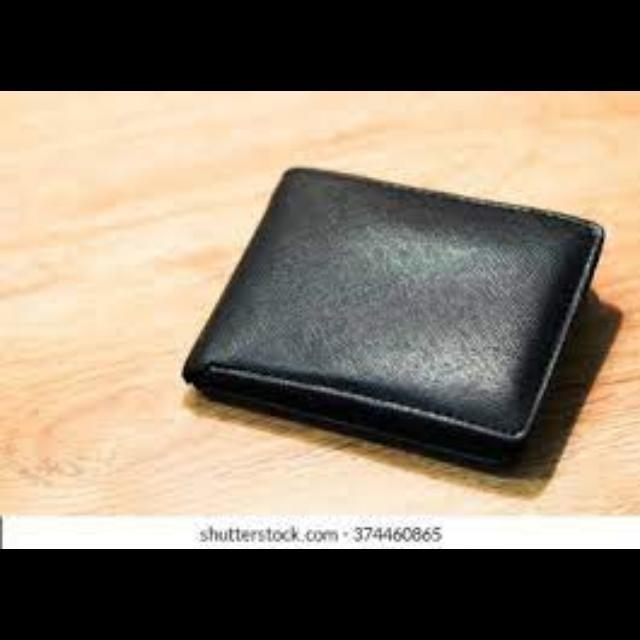wallet: (156, 147, 640, 449)
